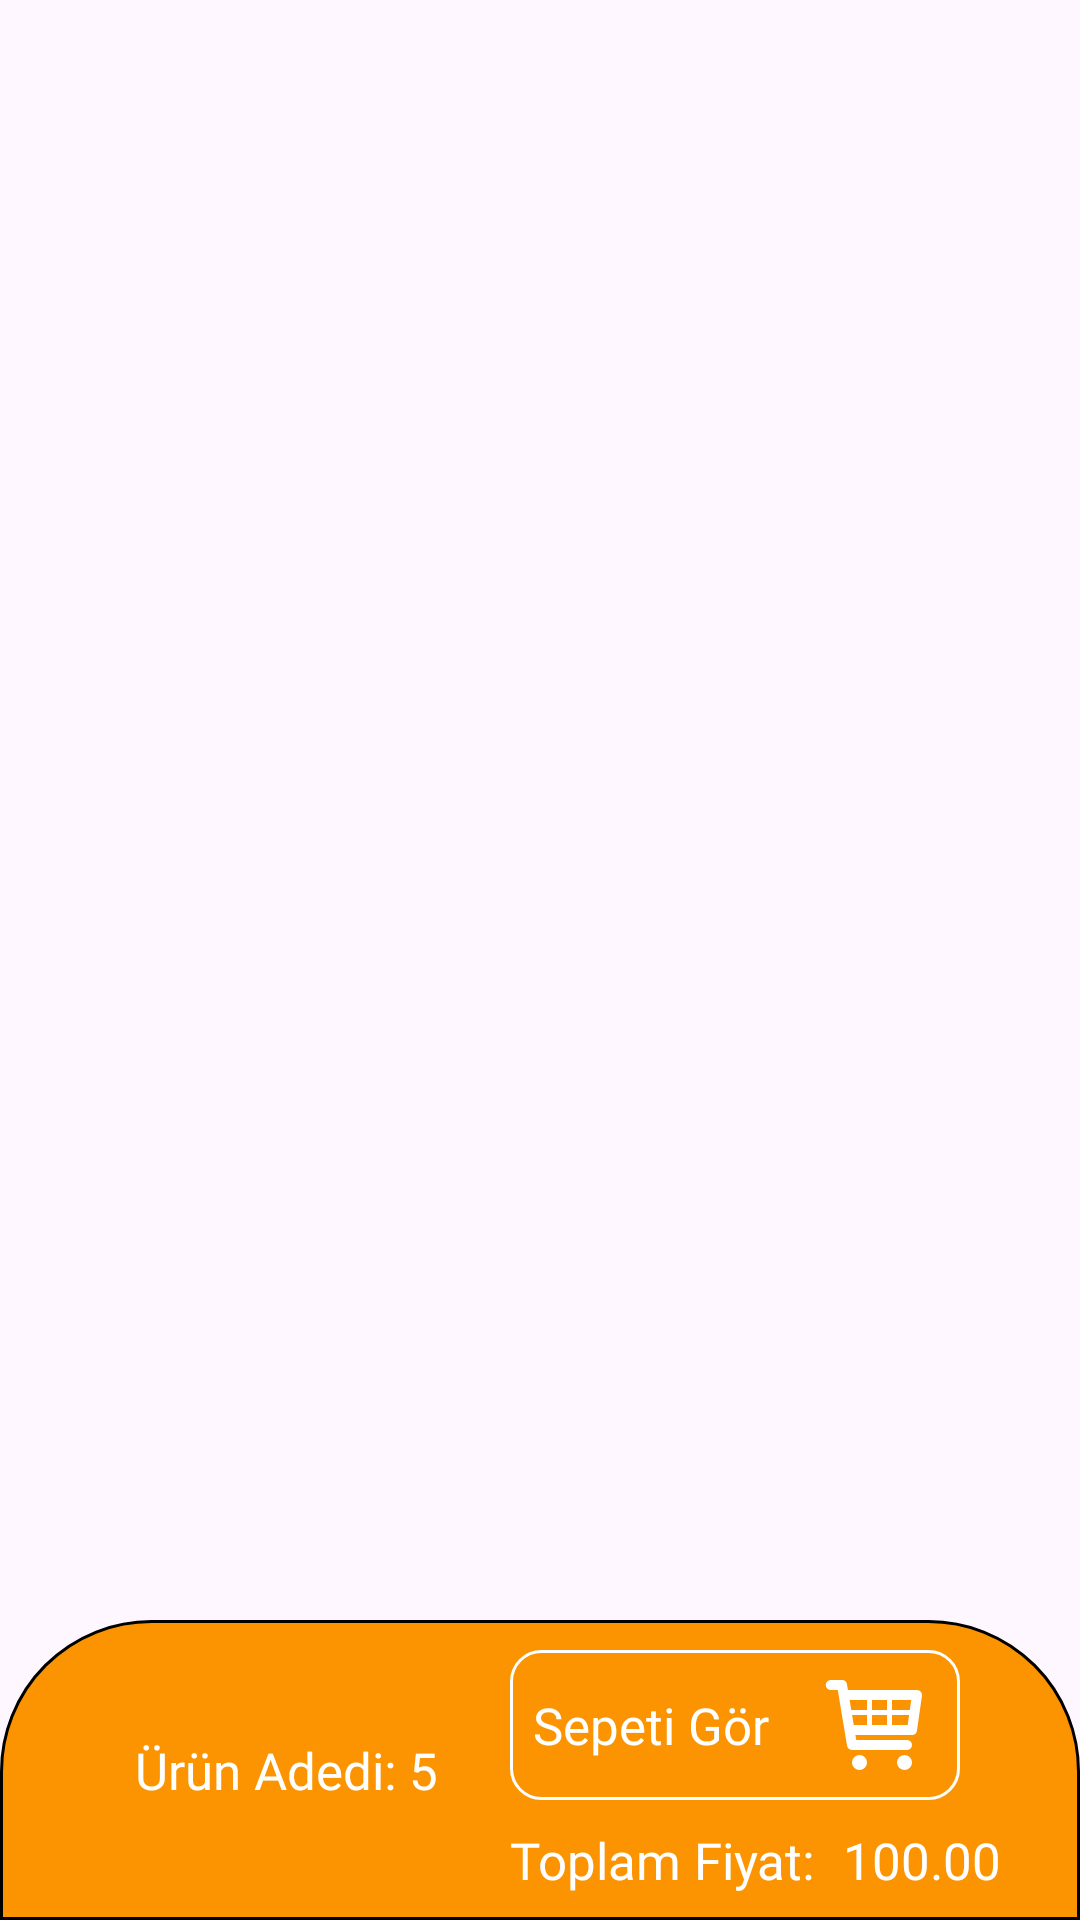

Screen size 1080x1920. Icon name, then its box in pixels as (x1, y1, x2, y2):
shopping cart: (825, 1680, 922, 1770)
